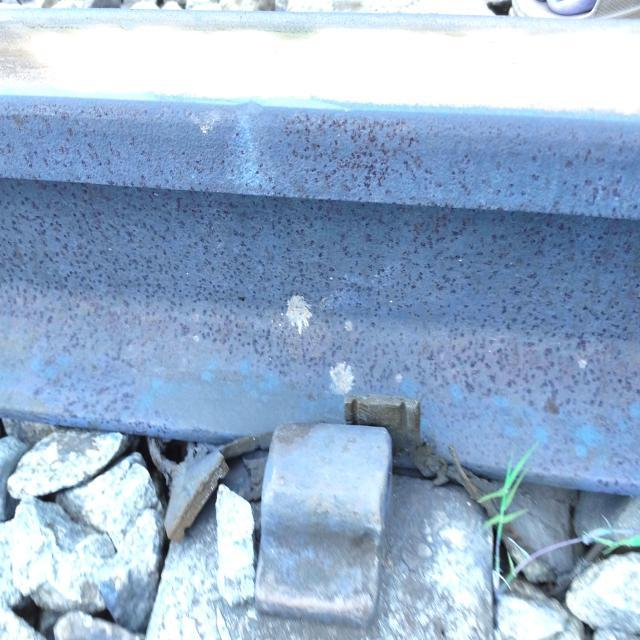Missing Fastener: (174, 389, 446, 640)
